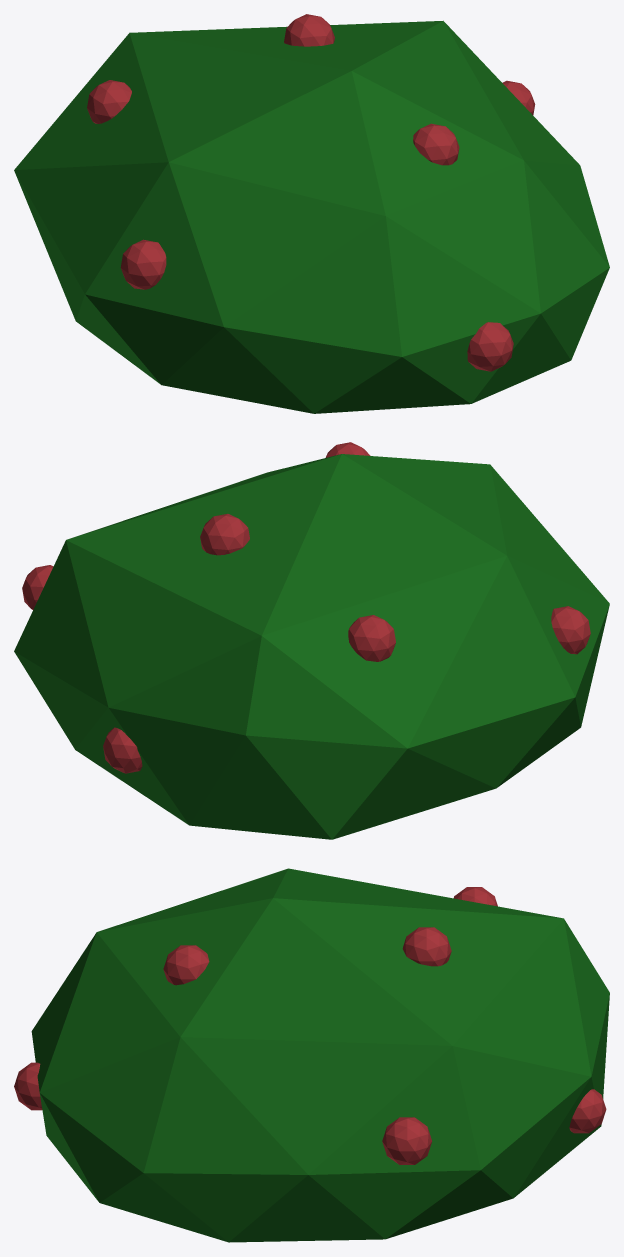
The model's file is berry1.2.fbx.
3 views of the same model, one above another, from view 1: azimuth 30°, elevation 25°; view 2: azimuth 150°, elevation 25°; view 3: azimuth 270°, elevation 25° (orthographic). The views are drawn at different scales.
Parts seen in each view (by area): view 1: Berry1.2; view 2: Berry1.2; view 3: Berry1.2.
Part boxes in pixels (x1=…): Berry1.2: x1=14, y1=14, x2=609, y2=413; Berry1.2: x1=14, y1=442, x2=609, y2=839; Berry1.2: x1=14, y1=868, x2=609, y2=1242.
Size of the model in its own units: 416 by 218 by 447.
